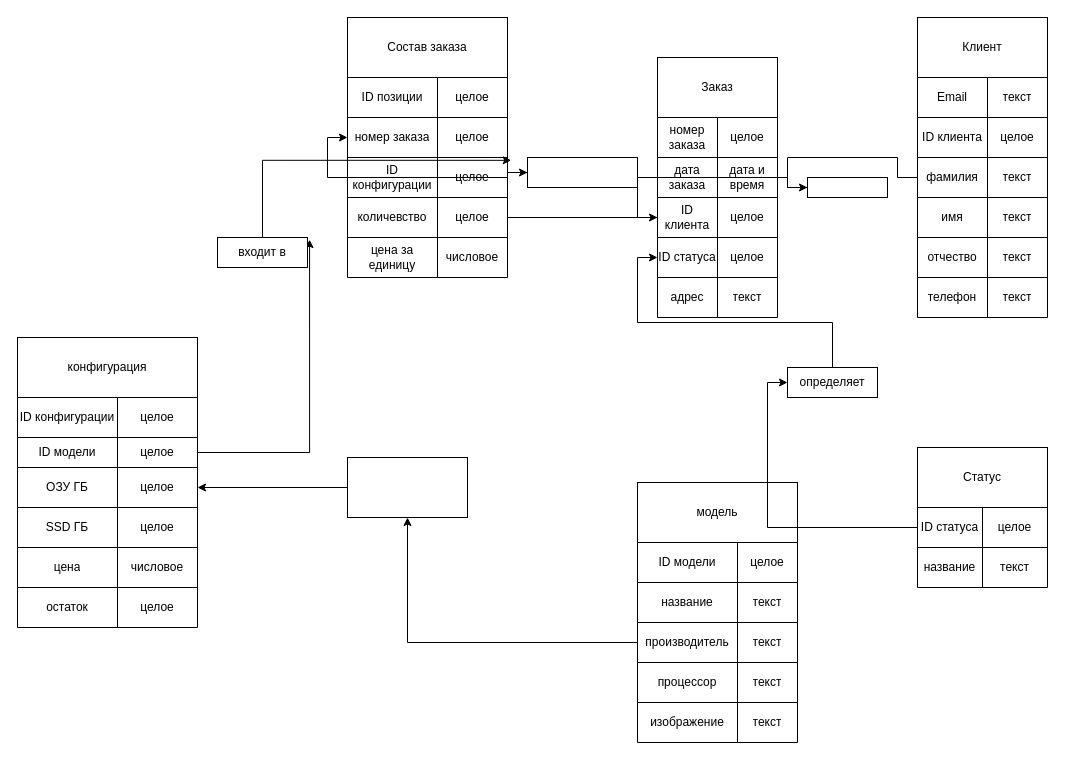
Image size: 1065x760. Some labels were removed from this diagram. Each missing label, with the box of its shape:
имеет: (346, 456, 468, 518)
офорляет: (806, 176, 888, 198)
содержит: (526, 156, 638, 188)
